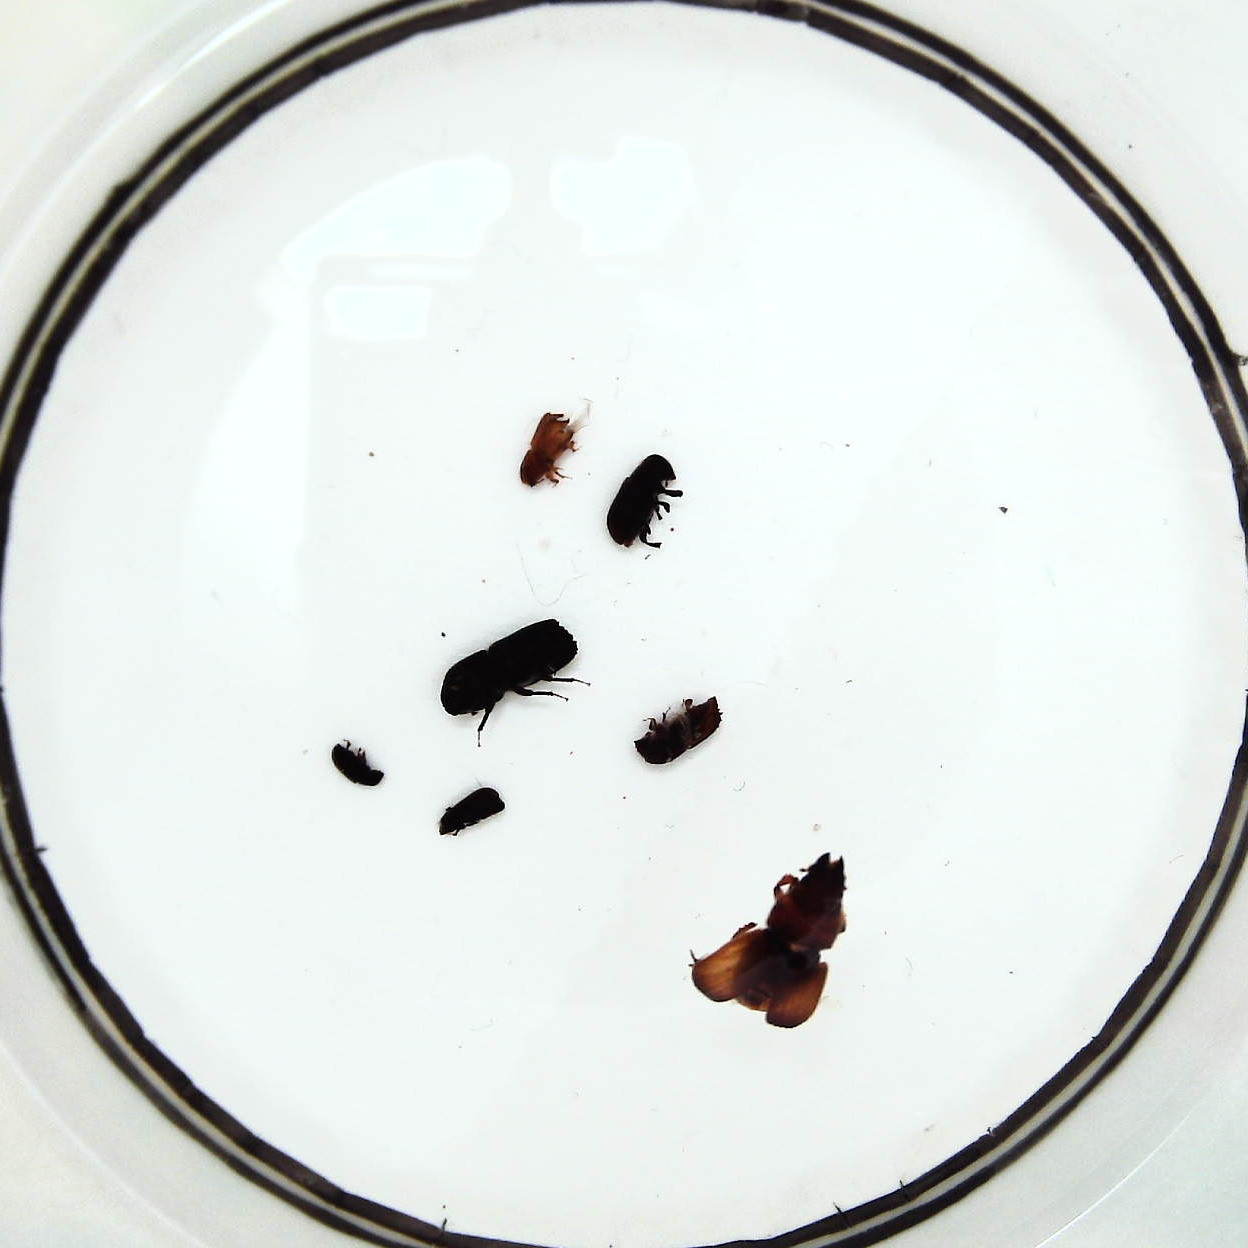Boerner: (440, 621, 581, 720)
Leconte: (689, 855, 843, 1029)
Linnaeus: (635, 694, 722, 766)
acuminatus: (521, 409, 576, 490)
armandi: (603, 453, 677, 549)
coleoptera: (437, 789, 503, 832), (330, 738, 383, 790)
